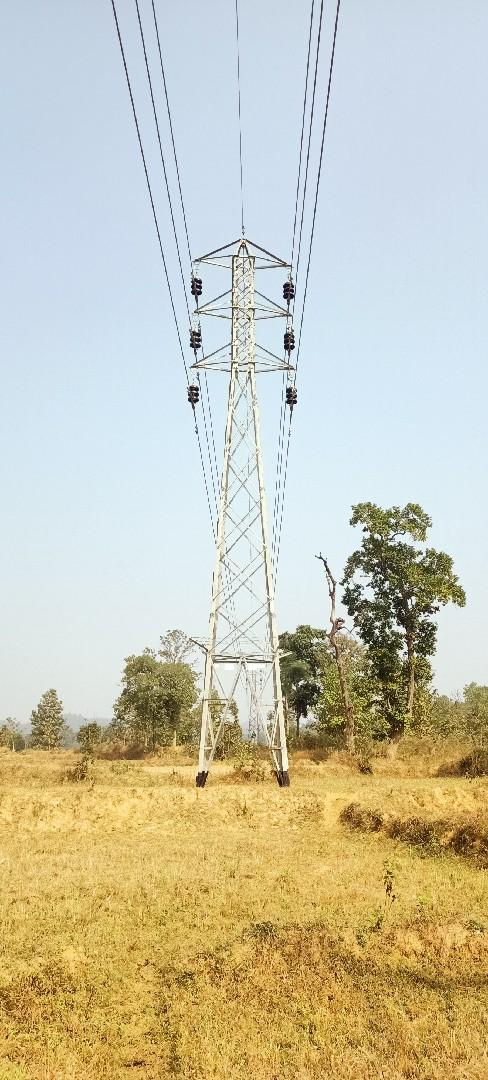GSM Antenna: (160, 232, 304, 758)
